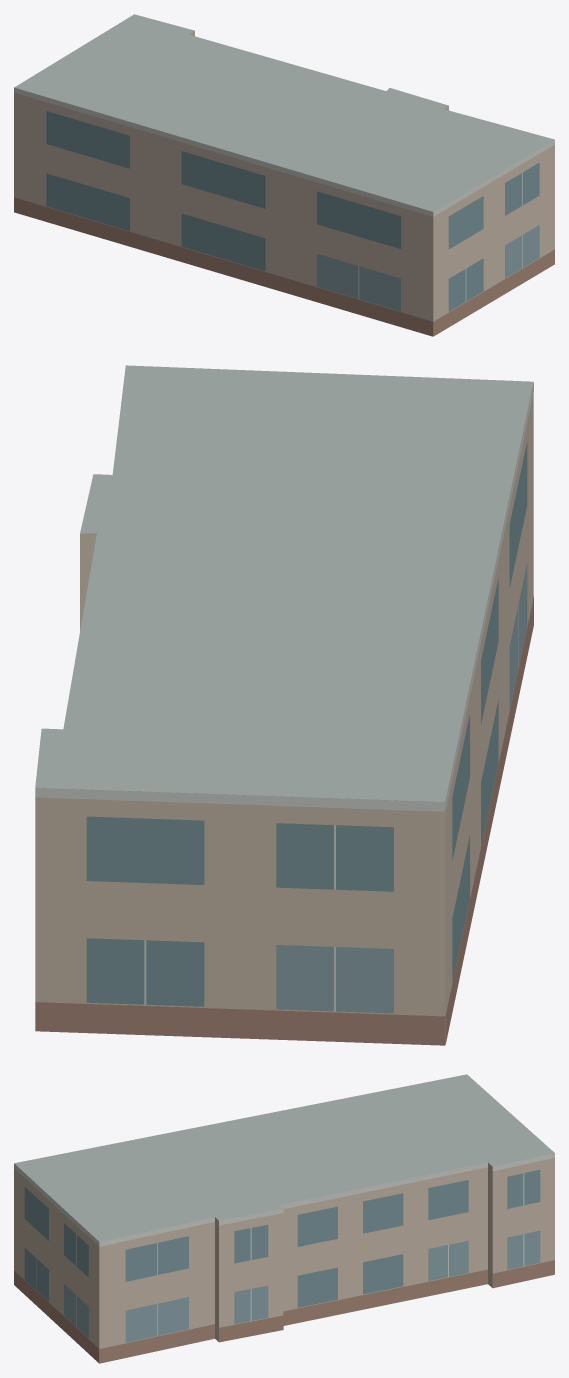
The model's file is survey-upis-32508338.glb.
3 renders of one model, top to bottom at view 1: azimuth 30°, elevation 25°; view 2: azimuth 150°, elevation 25°; view 3: azimuth 270°, elevation 25°, orthographic. The views are drawn at different scales.
Parts seen in each view (by area): view 1: survey-upis-32508338.tmp; view 2: survey-upis-32508338.tmp; view 3: survey-upis-32508338.tmp.
Part boxes in pixels (x1,y1,x2,y2): survey-upis-32508338.tmp: (14, 14, 554, 336); survey-upis-32508338.tmp: (35, 365, 533, 1045); survey-upis-32508338.tmp: (14, 1074, 554, 1363).
Bounding box in the file's own units: 18.03 × 6.1 × 24.57.
